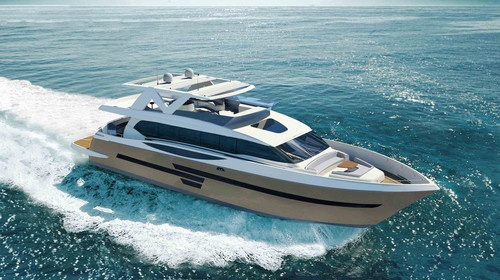yacht: (71, 66, 442, 227)
